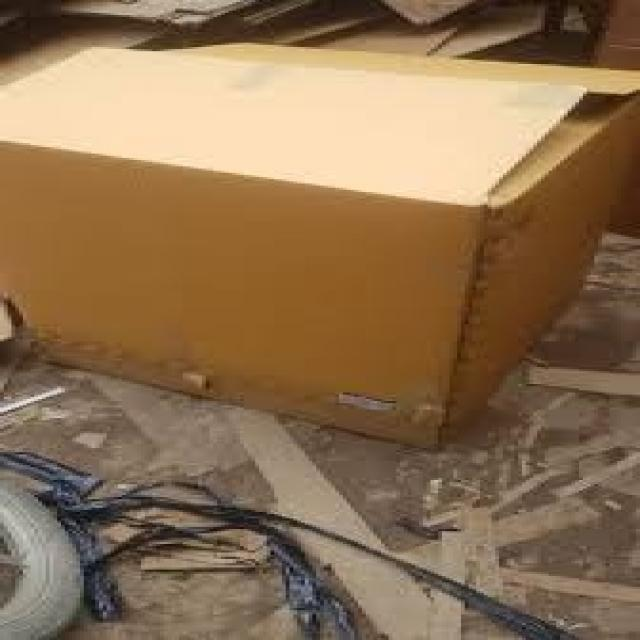cardboard paper: (0, 45, 638, 422), (203, 148, 479, 204)
